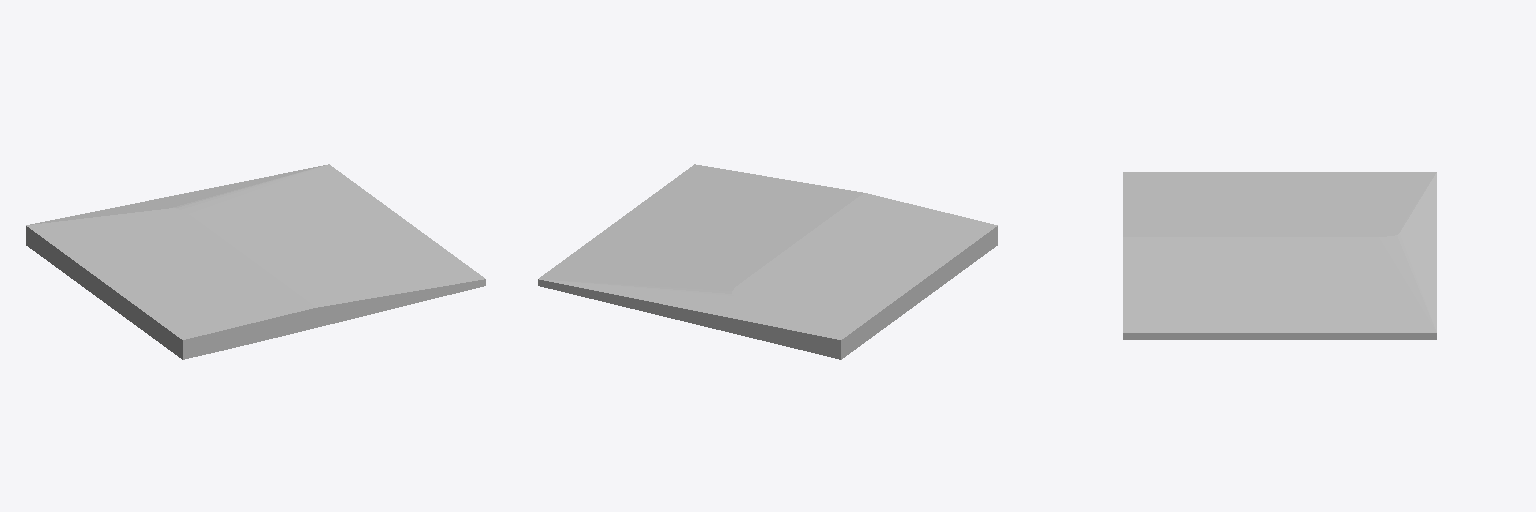
File: ShipScene_collision_10.obj
The picture shows the model from 3 angles: view 1: azimuth 30°, elevation 25°; view 2: azimuth 150°, elevation 25°; view 3: azimuth 270°, elevation 25°; orthographic projection.
Bounding box in the file's own units: 215 × 13.79 × 192.